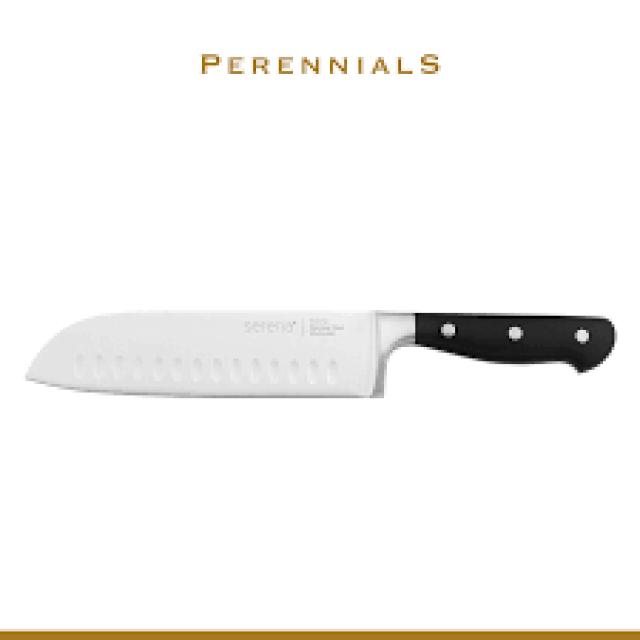Knife: (26, 310, 617, 398)
